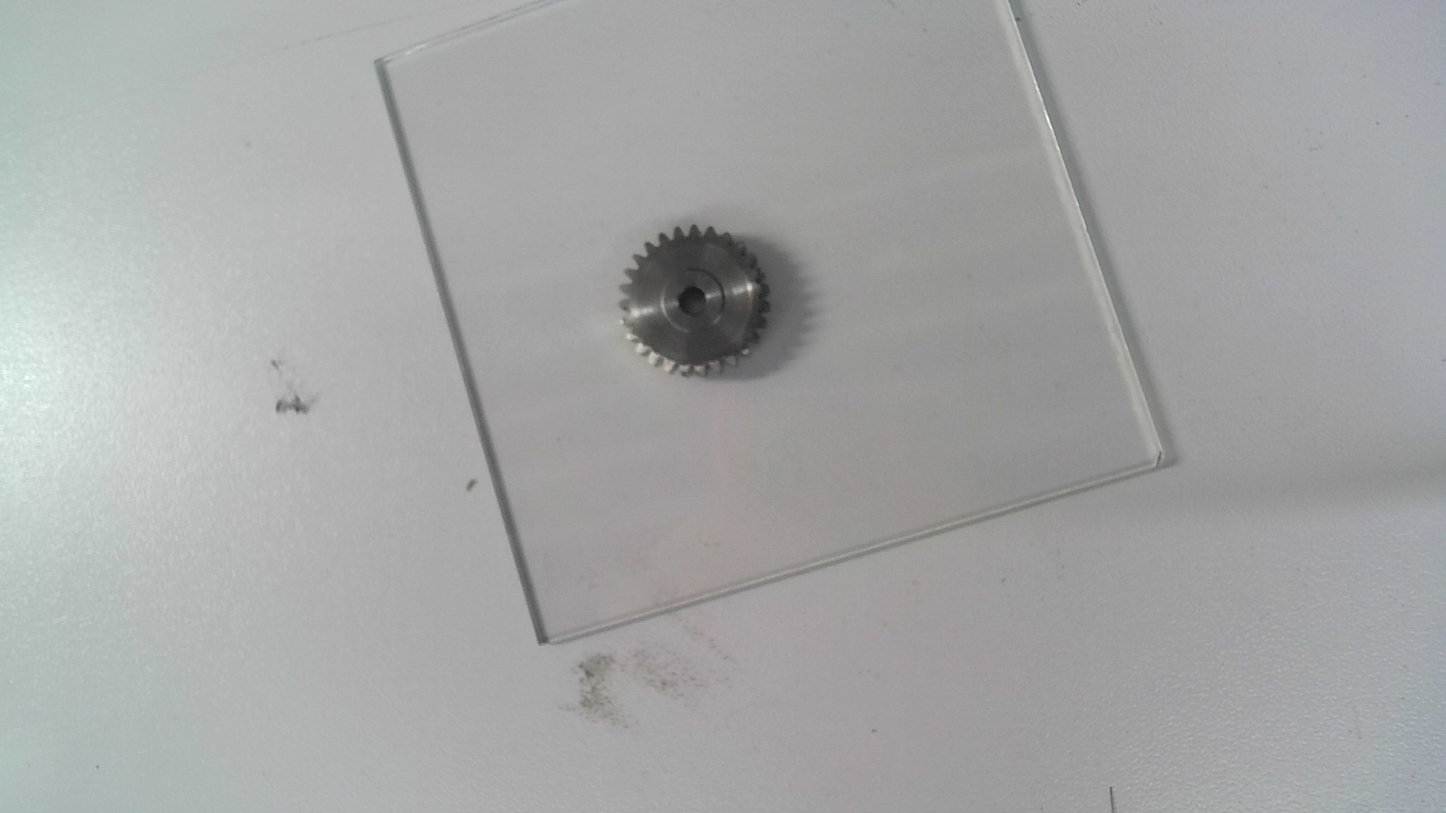gear: (614, 224, 774, 380)
